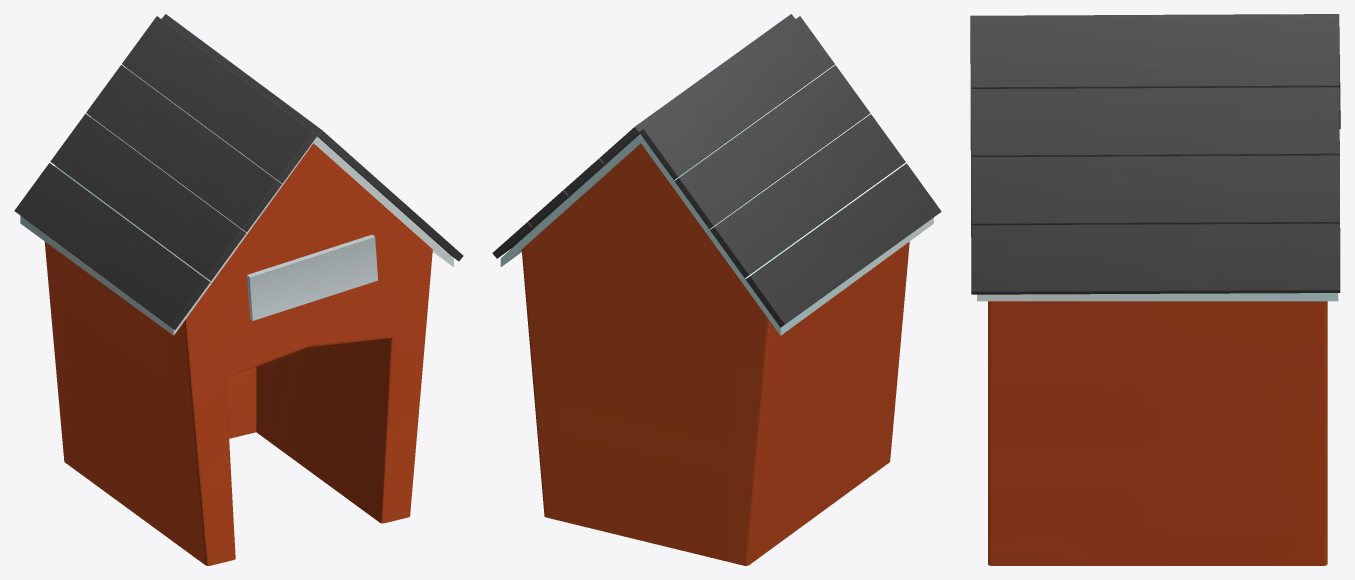
The model's file is SM_Exterior_CasaDelPerro.fbx.
The picture shows the model from 3 angles, left to right: view 1: azimuth 30°, elevation 25°; view 2: azimuth 150°, elevation 25°; view 3: azimuth 270°, elevation 25°; orthographic projection. The views are drawn at different scales.
Parts seen in each view (by area): view 1: SM_Exterior_CasaDelPerro; view 2: SM_Exterior_CasaDelPerro; view 3: SM_Exterior_CasaDelPerro.
Boxes of the visible parts, left/top/right/bottom form: SM_Exterior_CasaDelPerro: left=14, top=14, right=463, bottom=565; SM_Exterior_CasaDelPerro: left=492, top=14, right=941, bottom=565; SM_Exterior_CasaDelPerro: left=970, top=14, right=1340, bottom=565.
Size of the model in its own units: 137 by 186 by 127.
